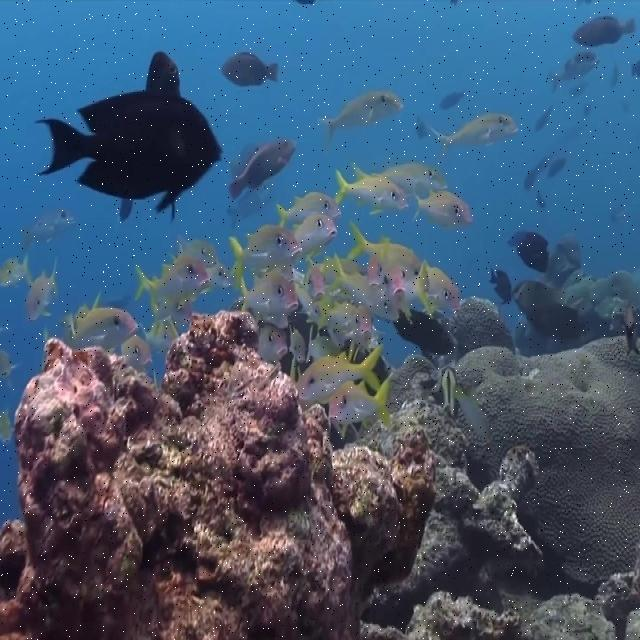fish: (29, 90, 226, 213), (347, 244, 410, 364), (323, 249, 398, 320), (313, 89, 403, 148), (226, 136, 297, 203), (298, 345, 381, 401), (227, 224, 303, 283), (431, 111, 519, 158), (130, 256, 212, 305), (349, 224, 423, 276), (330, 371, 394, 431), (335, 171, 408, 212), (71, 307, 137, 349), (240, 271, 298, 317), (397, 309, 455, 355), (540, 51, 601, 94), (21, 206, 75, 249), (504, 227, 552, 272), (222, 52, 279, 88), (25, 258, 57, 321), (457, 384, 491, 443), (571, 14, 635, 45), (293, 211, 337, 252), (427, 267, 460, 307), (255, 324, 290, 360), (140, 316, 177, 349), (486, 268, 513, 305), (1, 252, 29, 287), (121, 336, 153, 365), (441, 365, 457, 416), (290, 328, 307, 362)
sea-floor: (0, 308, 439, 639)
